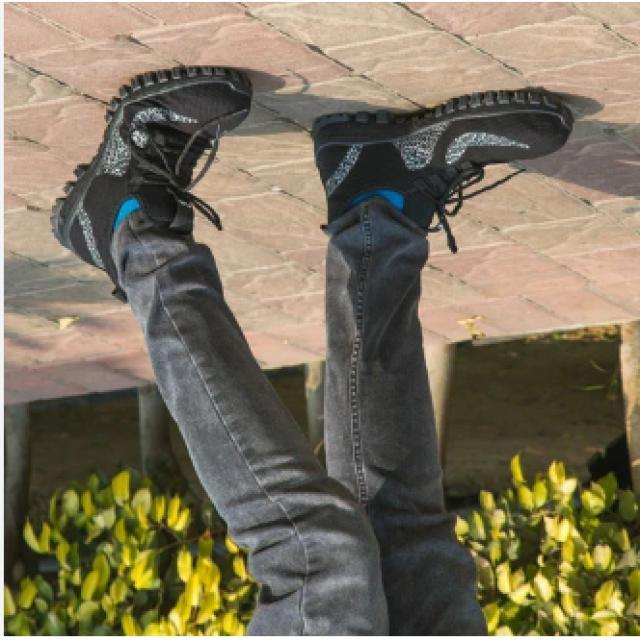shoes: (50, 65, 576, 305)
